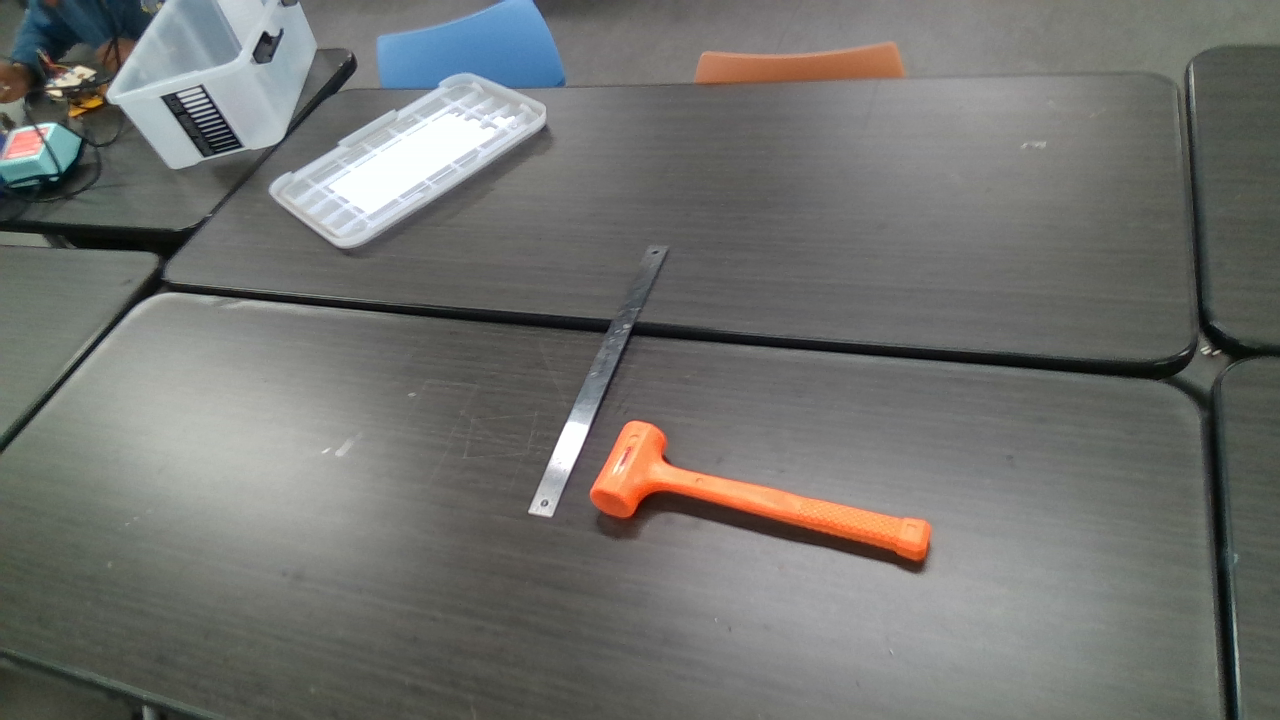Orange Hammer: (591, 422, 929, 563)
